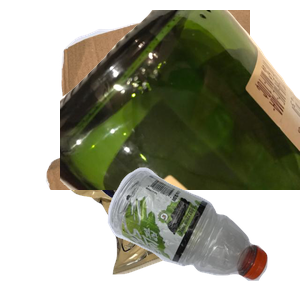cardboard: (43, 10, 283, 190)
glass: (60, 10, 300, 190)
plastic: (105, 165, 300, 300)
trash: (61, 127, 260, 300)
